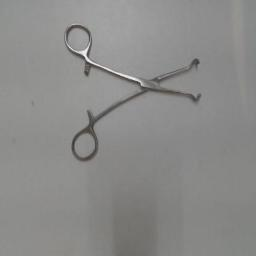Babcock Tissue Forceps: (59, 20, 203, 166)
